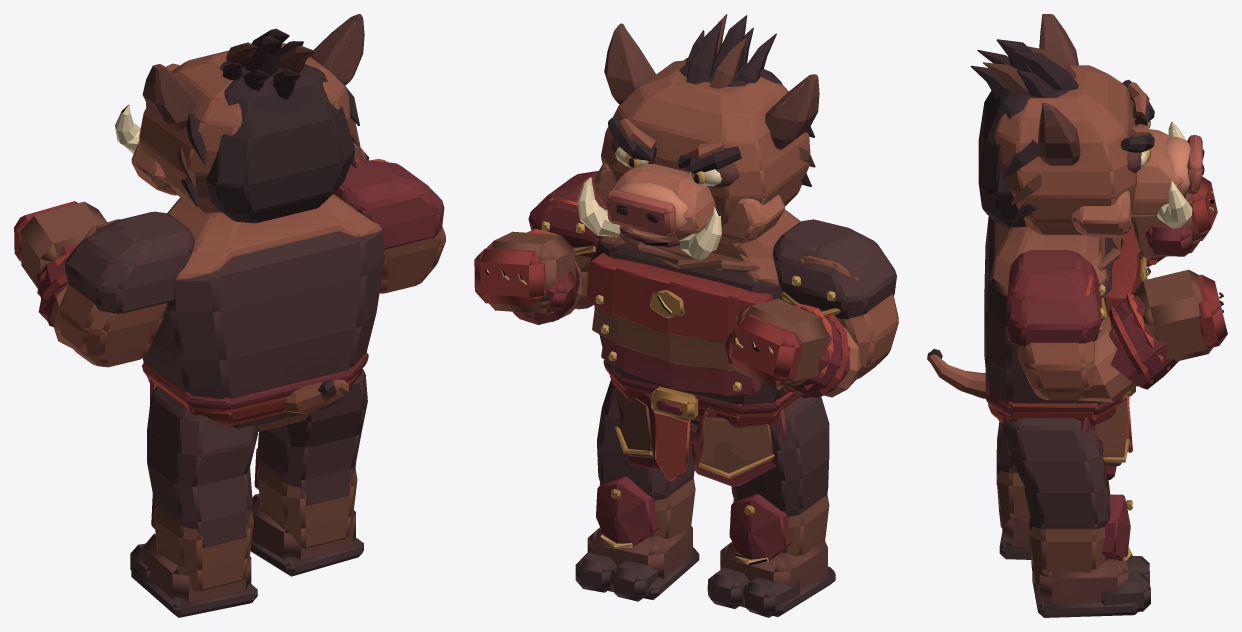
File: Bracken_Boar.glb
3 views of the same model, side by side, from view 1: azimuth 30°, elevation 25°; view 2: azimuth 150°, elevation 25°; view 3: azimuth 270°, elevation 25° (orthographic). The views are drawn at different scales.
Parts seen in each view (by area): view 1: Torso_Shell, Head_Shell, Left_Leg_Shell, Left_Arm_Shell, Right_Leg_Shell, Right_Arm_Shell, Tail_Shell; view 2: Head_Shell, Torso_Shell, Left_Arm_Shell, Left_Leg_Shell, Right_Leg_Shell, Right_Arm_Shell; view 3: Head_Shell, Right_Arm_Shell, Right_Leg_Shell, Torso_Shell, Left_Arm_Shell, Left_Leg_Shell, Tail_Shell.
Part boxes in pixels (<box>): Torso_Shell: <box>142,194,384,431</box>; Head_Shell: <box>115,14,364,223</box>; Left_Leg_Shell: <box>130,386,257,617</box>; Left_Arm_Shell: <box>14,201,194,367</box>; Right_Leg_Shell: <box>250,369,367,576</box>; Right_Arm_Shell: <box>333,141,445,293</box>; Tail_Shell: <box>283,379,348,414</box>; Head_Shell: <box>577,14,819,260</box>; Torso_Shell: <box>586,209,800,486</box>; Left_Arm_Shell: <box>724,219,898,398</box>; Left_Leg_Shell: <box>707,397,835,617</box>; Right_Leg_Shell: <box>575,379,699,601</box>; Right_Arm_Shell: <box>474,171,607,324</box>; Head_Shell: <box>970,14,1204,237</box>; Right_Arm_Shell: <box>1007,250,1227,402</box>; Right_Leg_Shell: <box>1003,418,1150,617</box>; Torso_Shell: <box>984,216,1150,479</box>; Left_Arm_Shell: <box>1131,176,1217,266</box>; Left_Leg_Shell: <box>996,422,1031,559</box>; Tail_Shell: <box>927,349,985,398</box>.
Size of the model in its own units: 3.53 by 5.2 by 2.67.
1 material, 1 textured.
